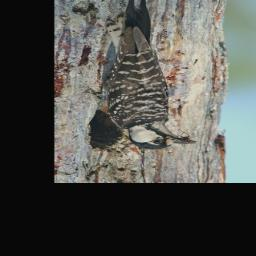Woodpecker: (82, 0, 198, 150)
